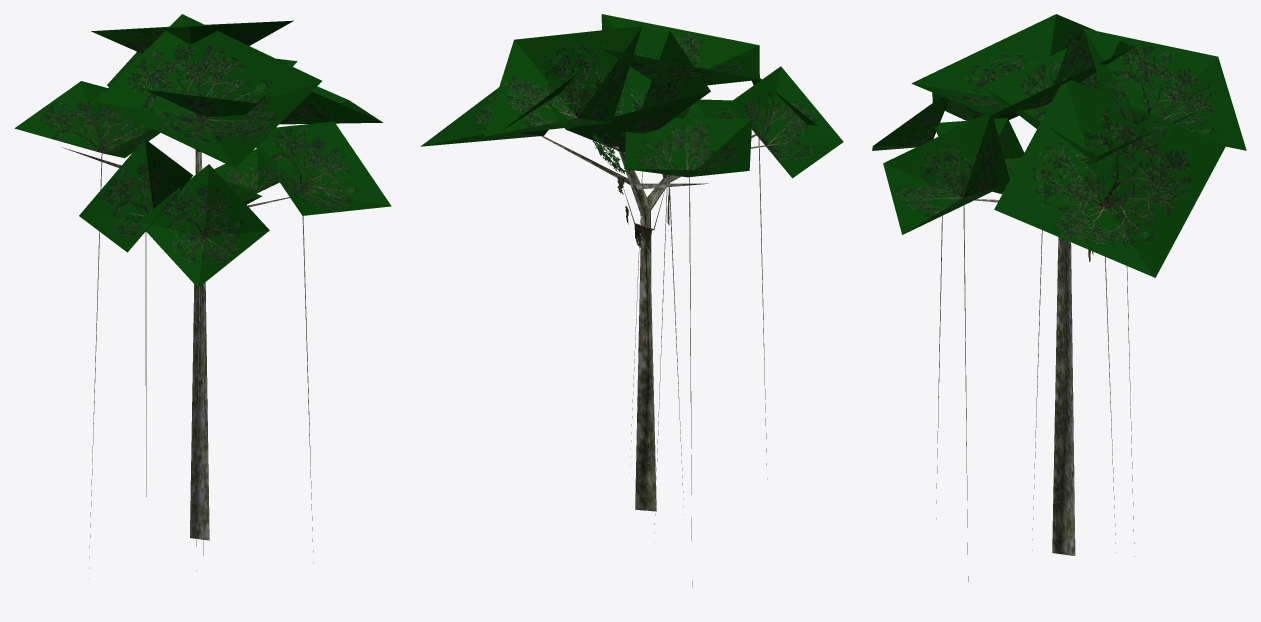
File: decd_treecanopy_l3.fbx
The picture shows the model from 3 angles, left to right: view 1: azimuth 30°, elevation 25°; view 2: azimuth 150°, elevation 25°; view 3: azimuth 270°, elevation 25°; orthographic projection. The views are drawn at different scales.
Visible parts, largest first — view 1: mesh_node; view 2: mesh_node; view 3: mesh_node.
Part boxes in pixels (bbox=[...]): mesh_node: bbox=[14, 14, 391, 570]; mesh_node: bbox=[420, 14, 843, 587]; mesh_node: bbox=[872, 14, 1246, 581].
Size of the model in its own units: 21.28 by 33.95 by 19.77.
